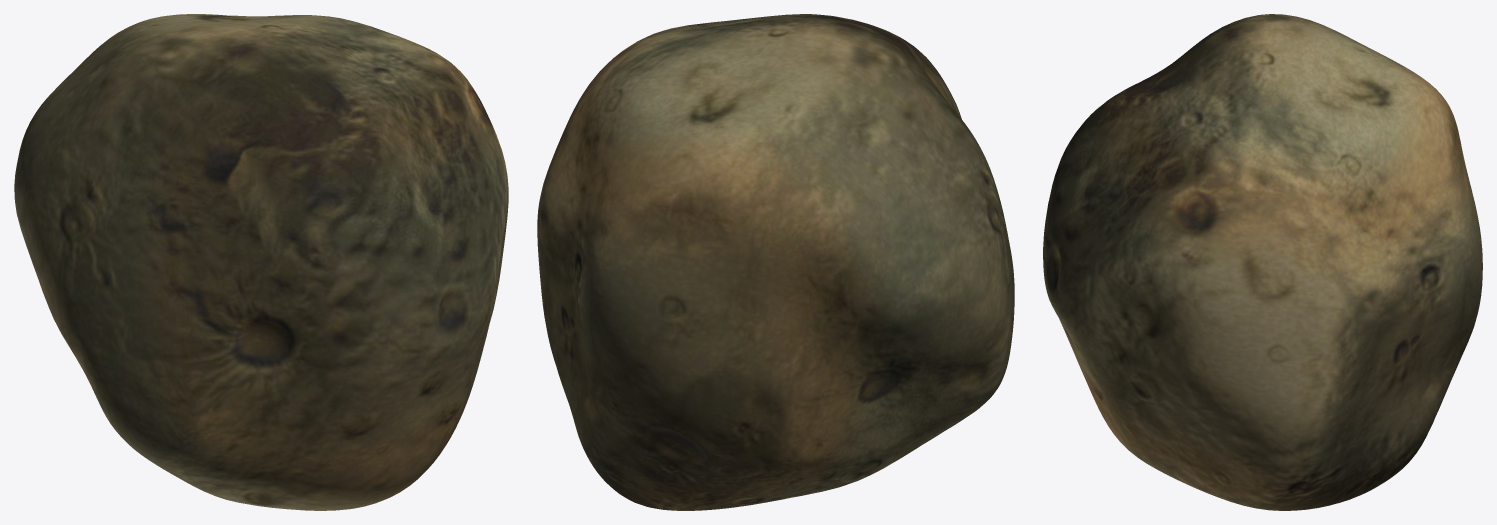
The model's file is 10464_Asteroid_v1_Iterations-2.obj.
The picture shows the model from 3 angles, left to right: view 1: azimuth 30°, elevation 25°; view 2: azimuth 150°, elevation 25°; view 3: azimuth 270°, elevation 25°; orthographic projection. The views are drawn at different scales.
Parts seen in each view (by area): view 1: node_id3_mesh_id4; view 2: node_id3_mesh_id4; view 3: node_id3_mesh_id4.
Boxes of the visible parts, left/top/right/bottom form: node_id3_mesh_id4: left=14, top=14, right=508, bottom=510; node_id3_mesh_id4: left=537, top=14, right=1014, bottom=510; node_id3_mesh_id4: left=1043, top=14, right=1482, bottom=510.
Bounding box in the file's own units: 0.5498 × 0.5816 × 0.5554.
